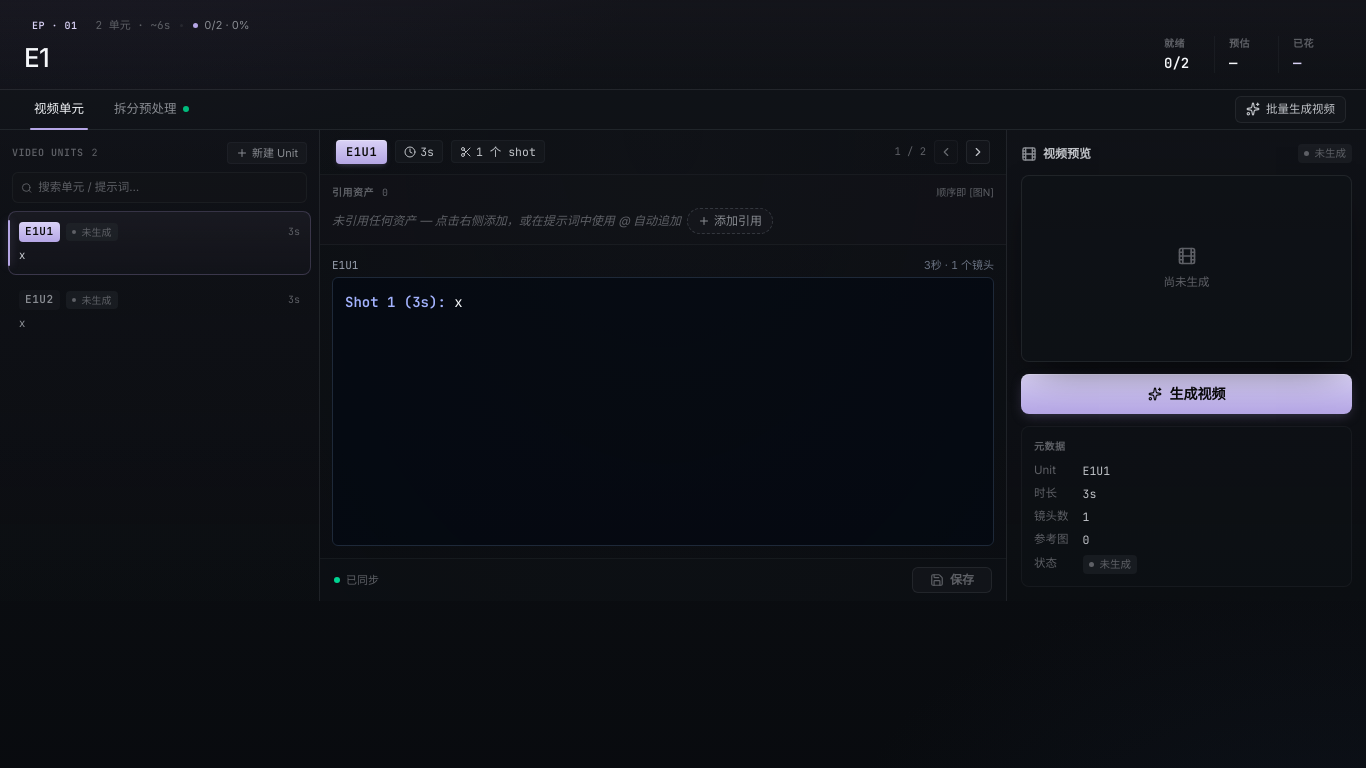
ReferenceVideoCanvas › inline-renders preprocessing view via the main tab
Expected: the option with test id "unit-row-E1U1" is shown, [8,211,311,275]
Click the tab "拆分预处理".
click(151, 109)  # box [100,90,202,129]
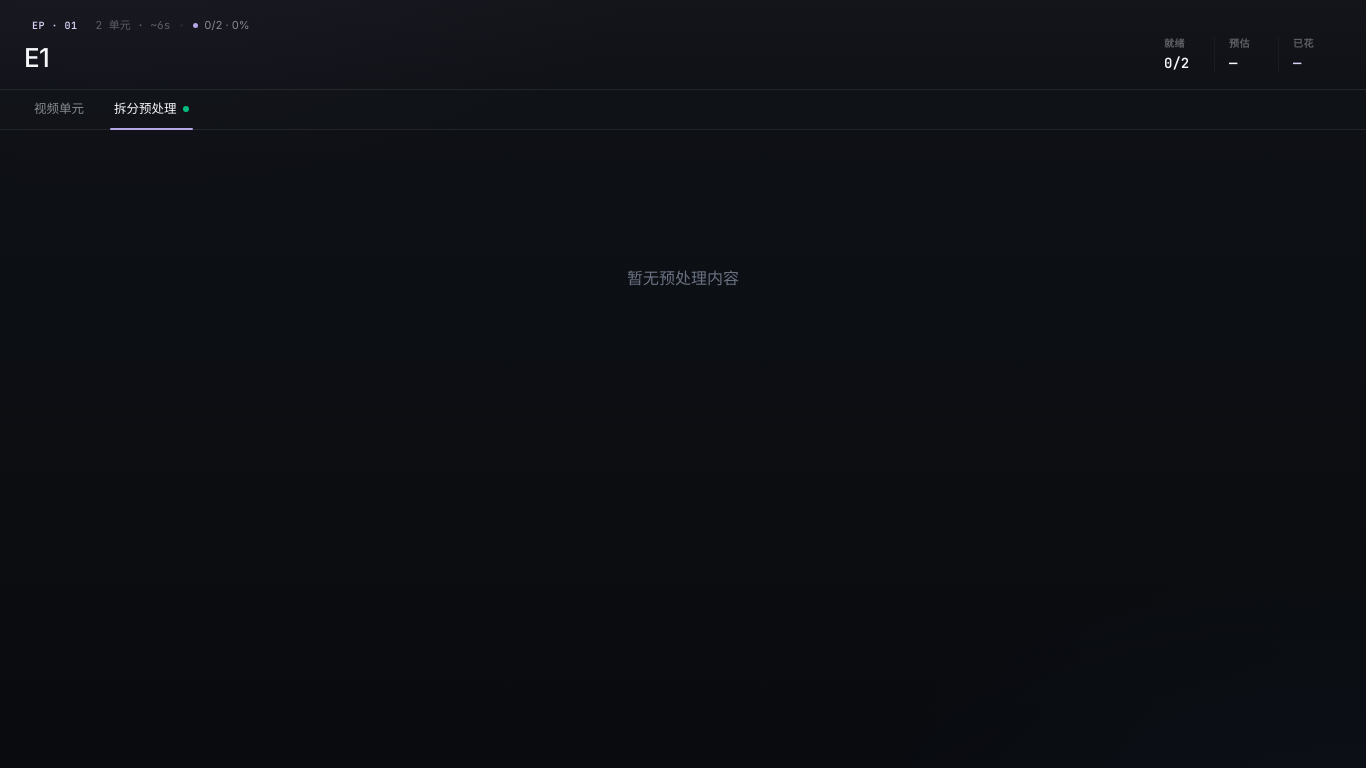
Result: the option with test id "unit-row-E1U1" is gone
